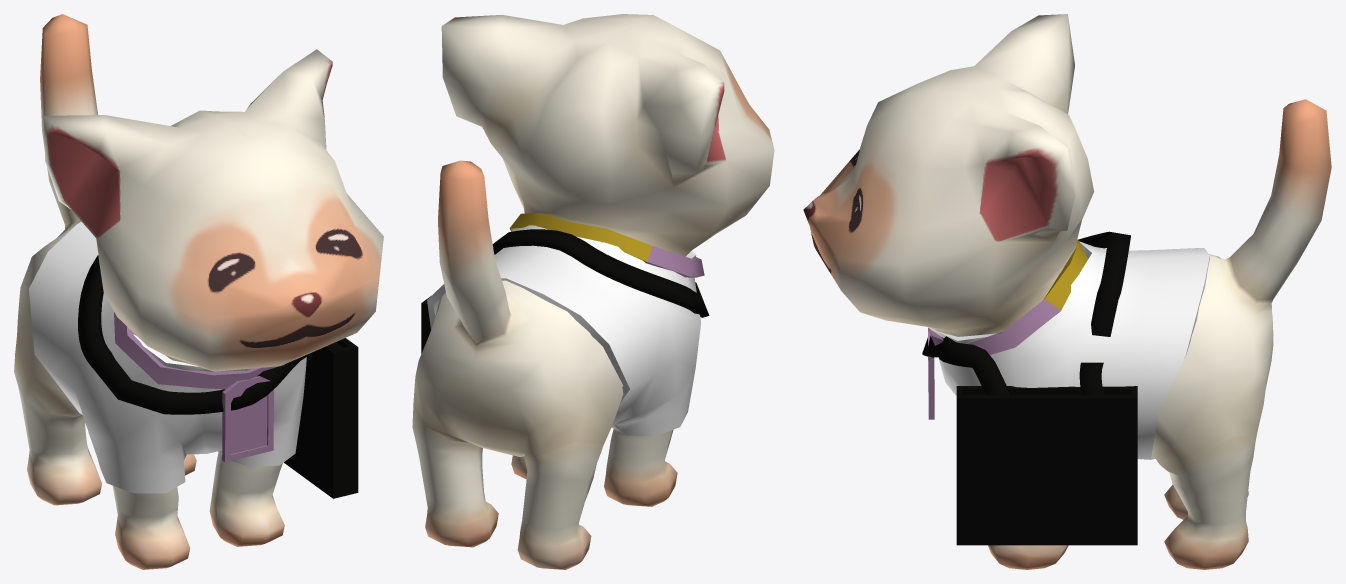
Rendered from Student Cat02_02.fbx.
3 renders of one model, left to right at view 1: azimuth 30°, elevation 25°; view 2: azimuth 150°, elevation 25°; view 3: azimuth 270°, elevation 25°, orthographic. The views are drawn at different scales.
Parts seen in each view (by area): view 1: Cat_Base001, tshirt, ToteBag, id; view 2: Cat_Base001, tshirt, ToteBag, id; view 3: Cat_Base001, ToteBag, tshirt, id.
Boxes of the visible parts, x1,y1,x2,y2 form: Cat_Base001: [14, 14, 383, 569]; tshirt: [29, 221, 306, 493]; ToteBag: [78, 255, 358, 498]; id: [114, 312, 284, 462]; Cat_Base001: [412, 14, 774, 569]; tshirt: [427, 225, 700, 436]; ToteBag: [421, 229, 709, 353]; id: [509, 213, 704, 277]; Cat_Base001: [803, 14, 1331, 569]; ToteBag: [922, 231, 1137, 545]; tshirt: [928, 241, 1209, 459]; id: [928, 239, 1087, 419].
Size of the model in its own units: 1.75 by 2.83 by 2.68.
5 materials, 1 textured.
